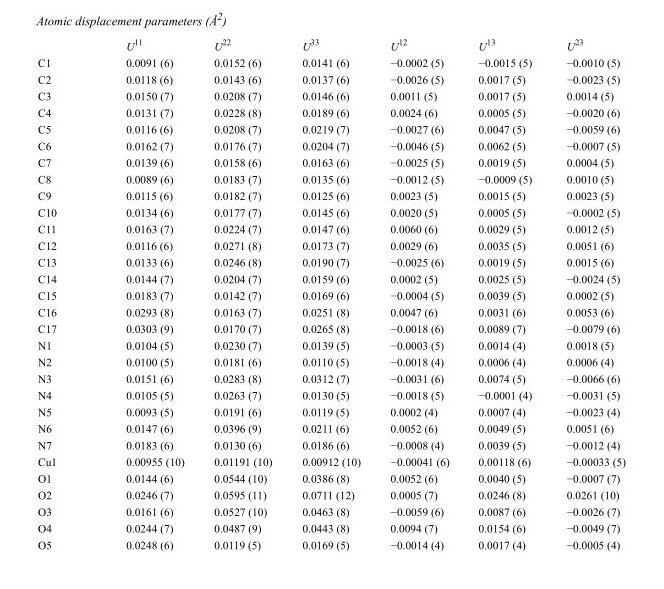table: (37, 36, 624, 550)
table column: (90, 36, 198, 550), (374, 36, 463, 550), (198, 36, 286, 550), (286, 36, 374, 550), (463, 36, 548, 550), (548, 36, 624, 550), (37, 36, 90, 550)
table column header: (37, 36, 624, 53)
table row: (37, 36, 624, 53), (37, 53, 624, 70), (37, 70, 624, 87), (37, 103, 624, 120), (37, 120, 624, 137), (37, 153, 624, 170), (37, 186, 624, 203), (37, 203, 624, 220), (37, 236, 624, 253), (37, 253, 624, 270), (37, 286, 624, 303), (37, 319, 624, 336), (37, 336, 624, 353), (37, 369, 624, 386), (37, 386, 624, 403), (37, 419, 624, 436), (37, 452, 624, 469), (37, 469, 624, 486), (37, 502, 624, 519), (37, 519, 624, 536), (37, 87, 624, 103), (37, 137, 624, 153), (37, 170, 624, 186), (37, 220, 624, 236), (37, 270, 624, 286), (37, 303, 624, 319), (37, 353, 624, 369), (37, 403, 624, 419), (37, 436, 624, 452), (37, 486, 624, 502), (37, 536, 624, 550)
